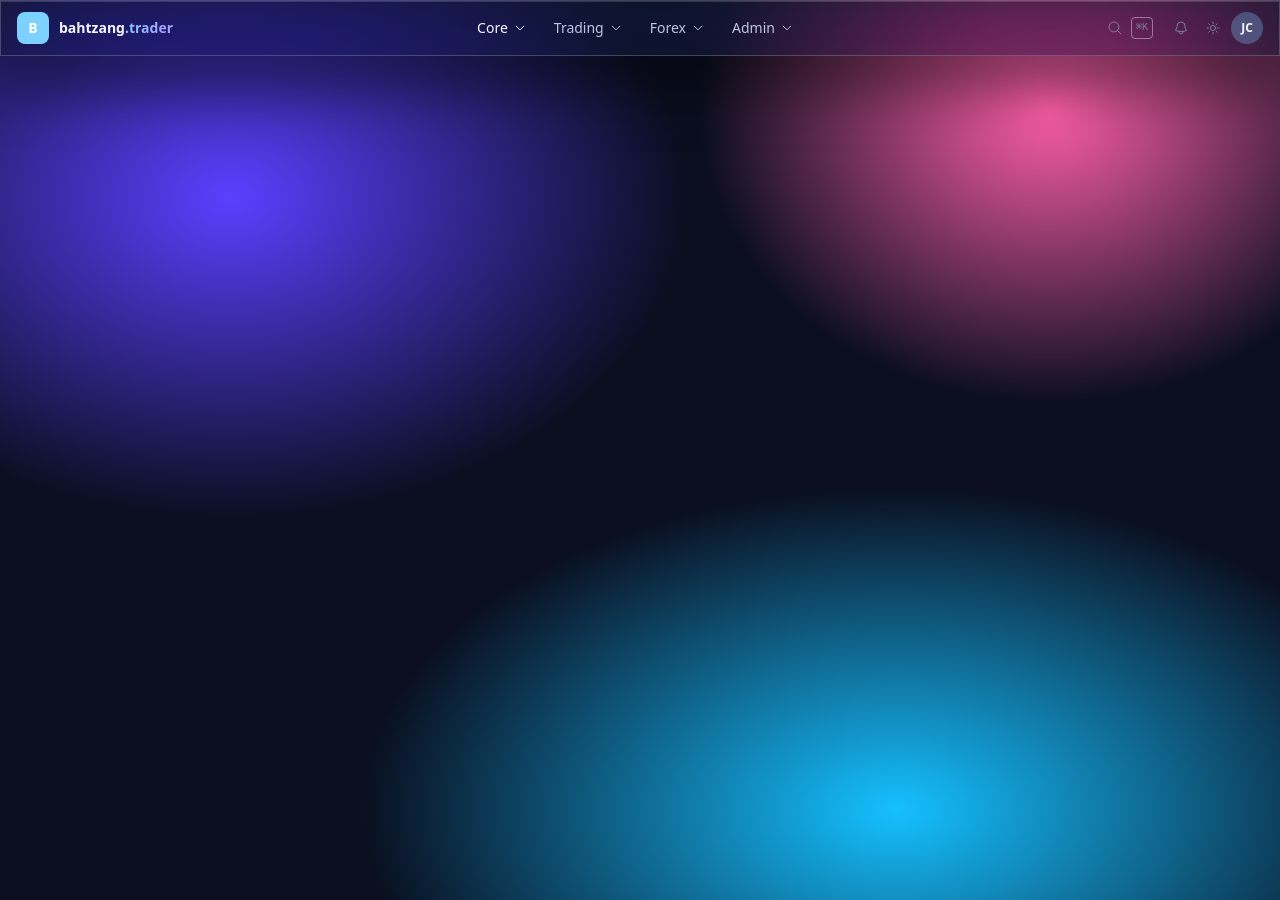
Test: TopNav › opens the Core mega-menu and renders descriptions for each item
The image size is (1280, 900).
Click the button "Core" at (501, 28), box [465,12,538,44]
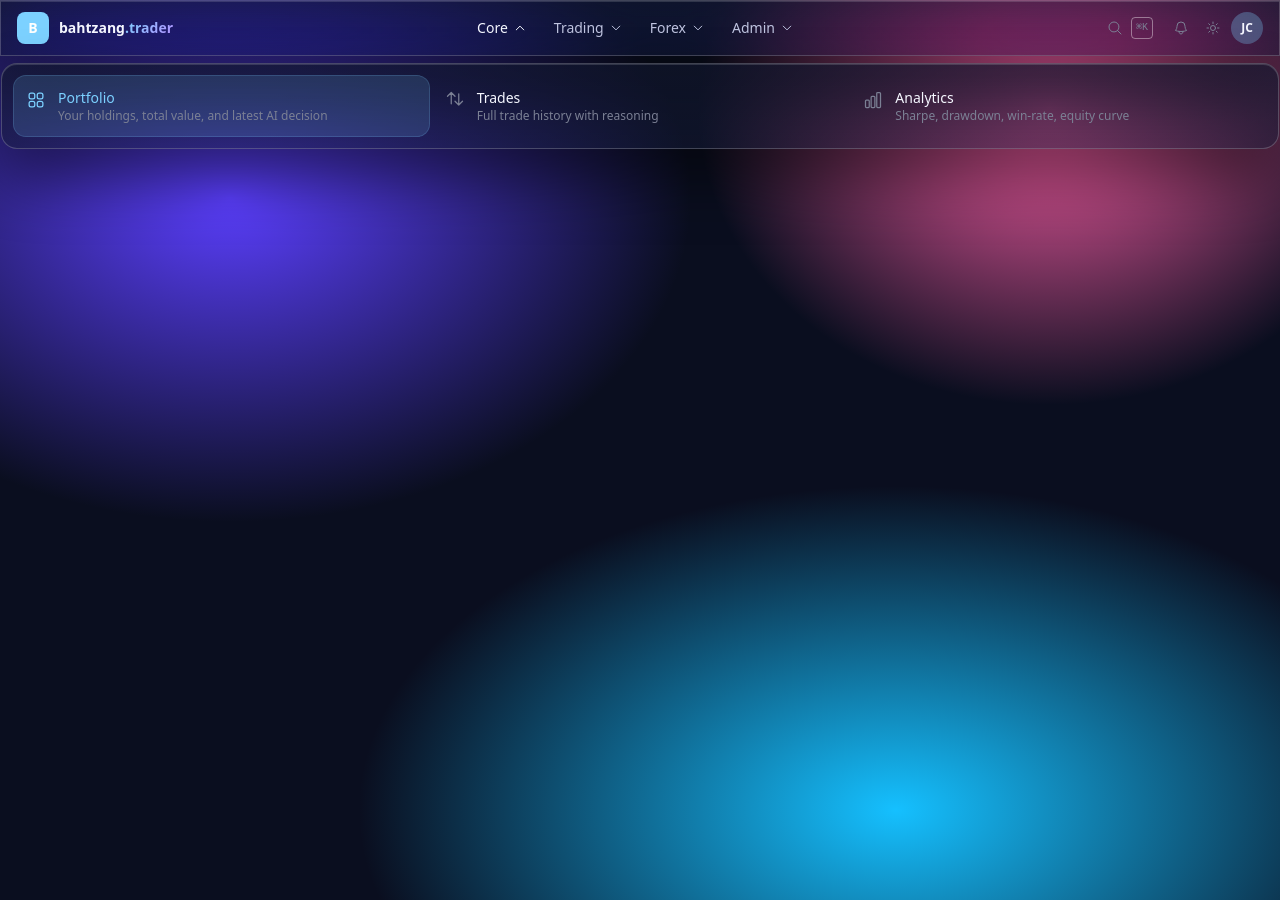
Check: the number of menu items is 3, box [14,76,429,136]; [445,88,659,124]; [863,88,1129,124]
Check: the menu item "Portfolio Your holdings, total value, and latest AI decision" is shown, box [14,76,429,136]
Check: the menu item "Trades Full trade history with reasoning" is shown, box [445,88,659,124]
